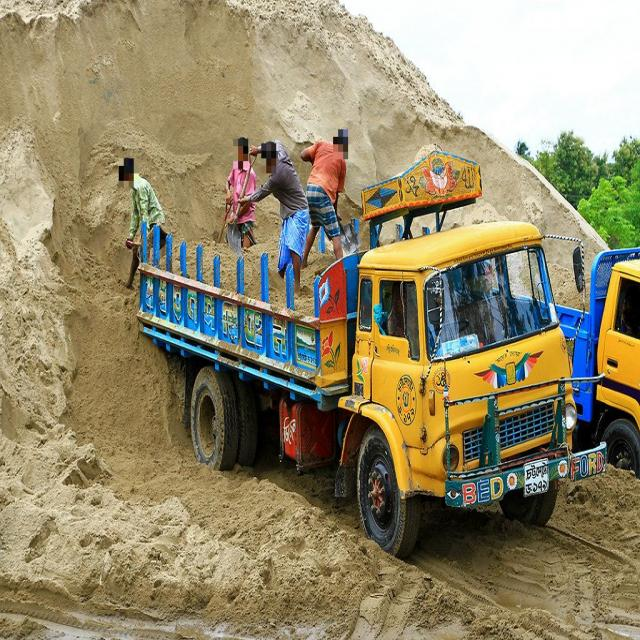truck: (114, 150, 574, 537), (570, 217, 640, 479)
